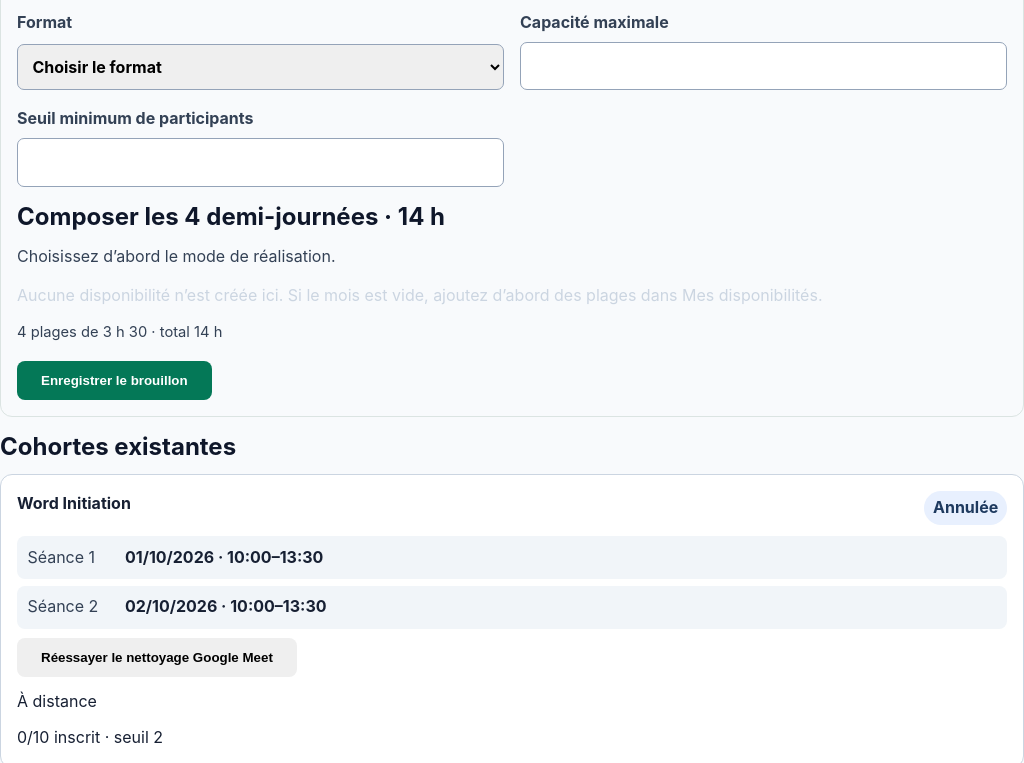
réessaie une seule fois le nettoyage Meet d’une cohorte annulée et signale un résultat partiel
(page scrolled)
Click the button "Réessayer le nettoyage Google Meet".
click(157, 658)  # box [17,638,297,677]
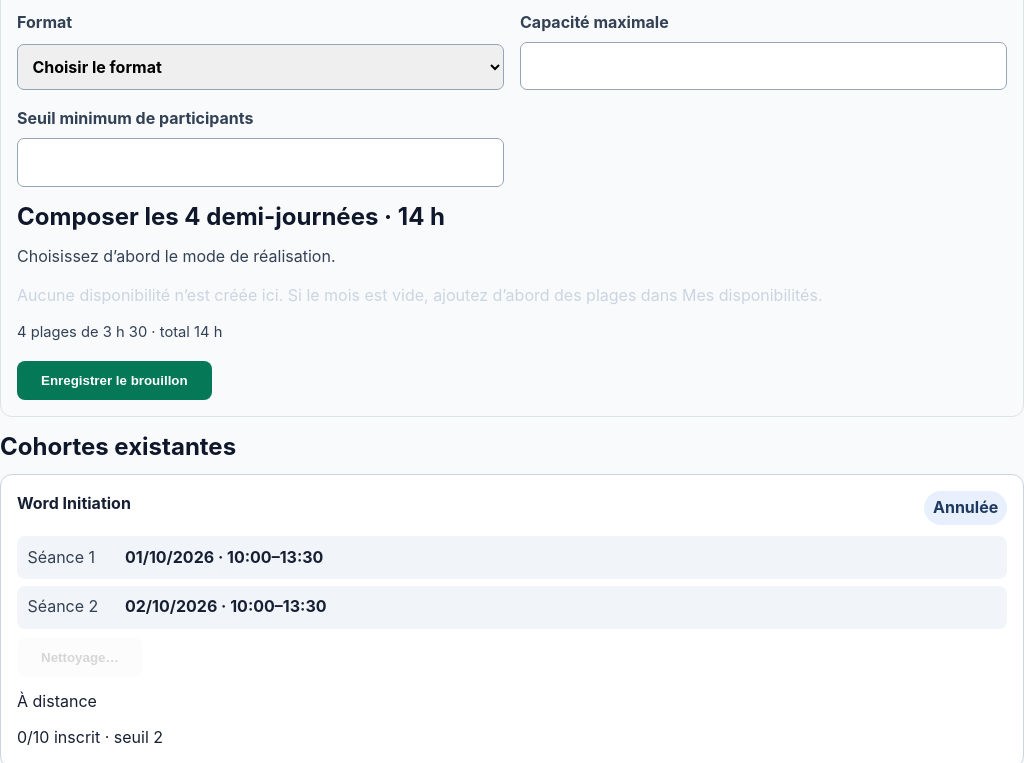
Click the button named "Réessayer le nettoyage Google Meet".
click(80, 658)  # box [17,638,143,677]
(page scrolled)
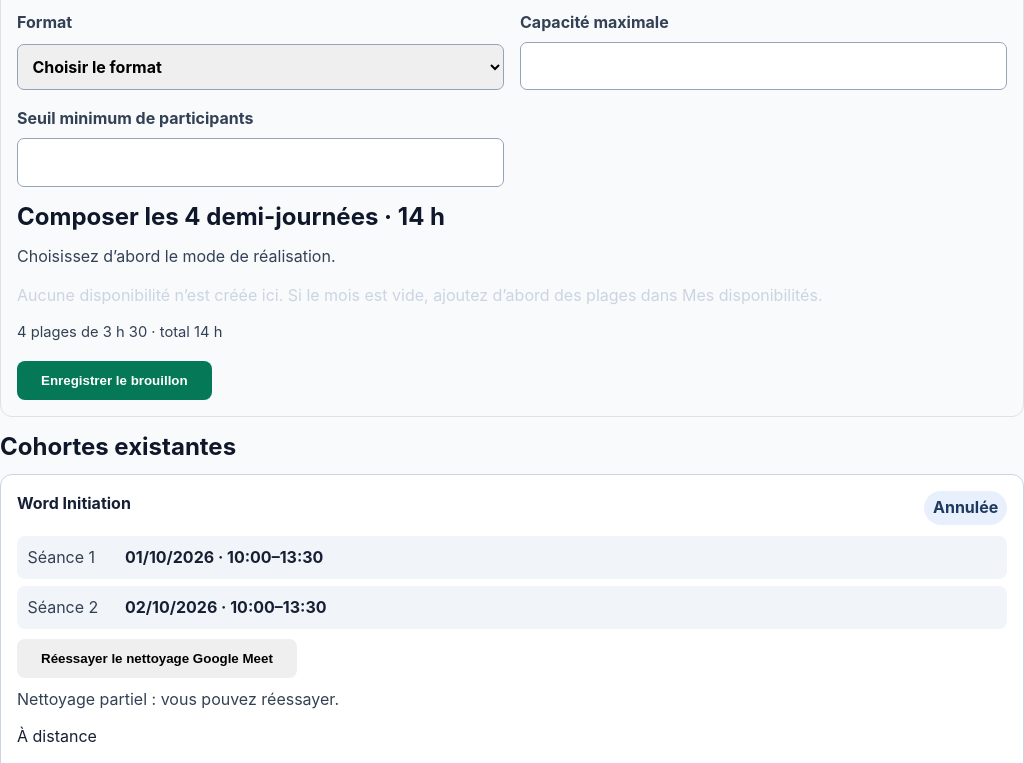
Expected: the text "Nettoyage partiel : vous pouvez réessayer." is shown, [17,689,339,709]
Expected: the button "Réessayer le nettoyage Google Meet" is enabled, [17,638,297,678]
